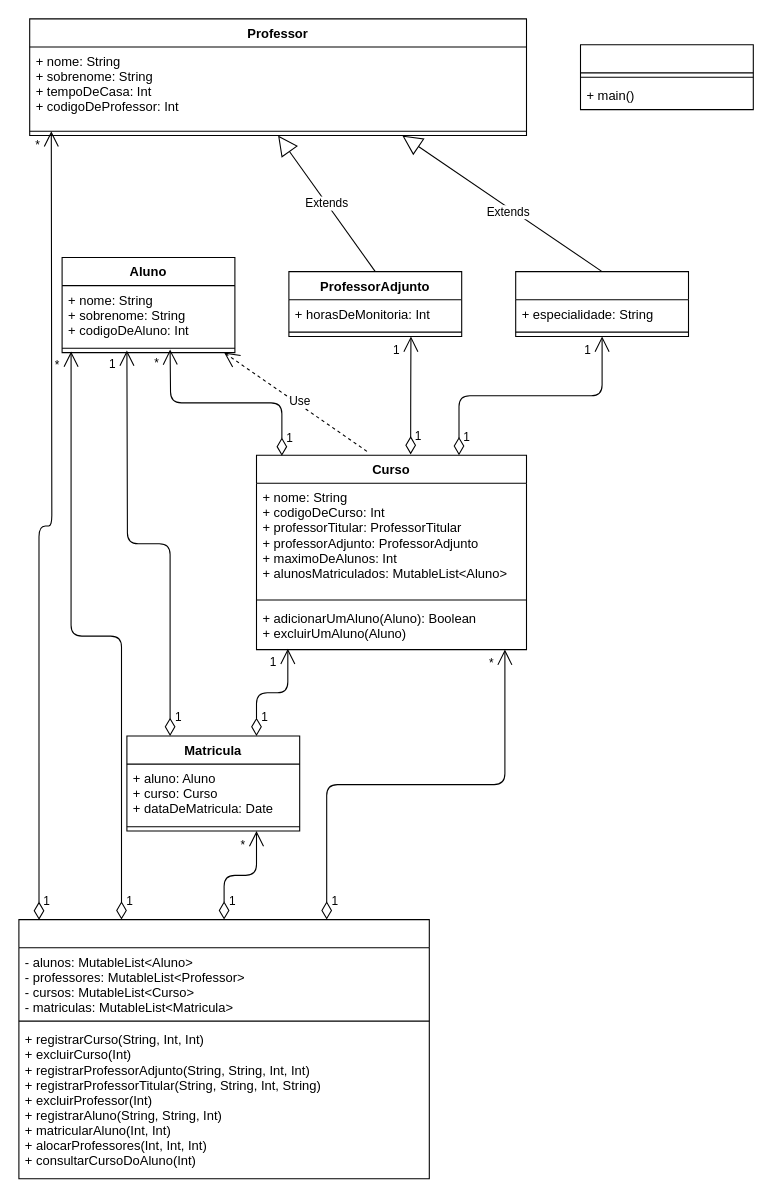
This 772x1201 diagram has some shape labels left out. The shapes that lost their labels are listed below. From the top down, each one's box as (x1, y1, x2, y2) in pixels, then its label:
(579, 44, 753, 110): Principal
(515, 271, 688, 336): ProfessorTitular
(18, 919, 429, 1179): DigitalHouseManager
